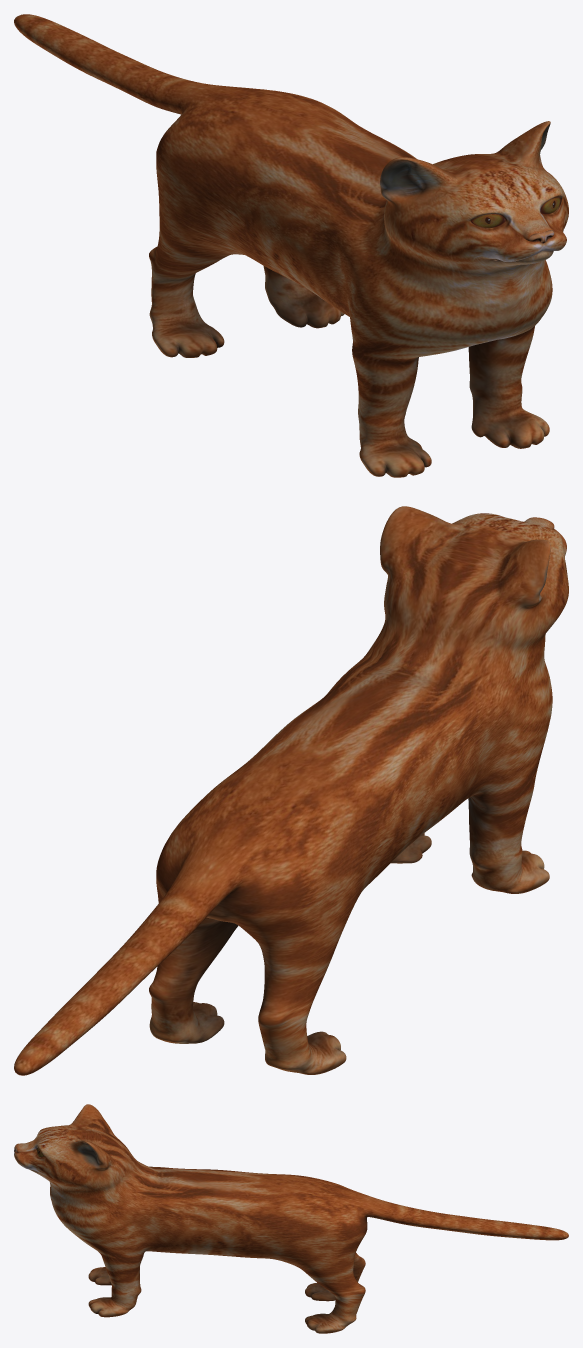
The model's file is cat.glb.
The picture shows the model from 3 angles, top to bottom: view 1: azimuth 30°, elevation 25°; view 2: azimuth 150°, elevation 25°; view 3: azimuth 270°, elevation 25°; orthographic projection. The views are drawn at different scales.
Visible parts, largest first — view 1: 12221_Cat_v1_l3; view 2: 12221_Cat_v1_l3; view 3: 12221_Cat_v1_l3.
Boxes of the visible parts, box(x1,y1,x2,y2) form: 12221_Cat_v1_l3: box(14, 14, 568, 477); 12221_Cat_v1_l3: box(14, 506, 568, 1075); 12221_Cat_v1_l3: box(14, 1104, 568, 1333).
Bounding box in the file's own units: 2.18 × 4.09 × 10.89.
Materials: 1 (1 with a texture image).
